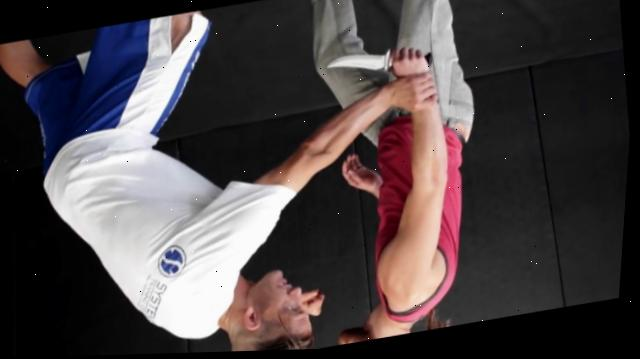long knife: (319, 30, 435, 91)
